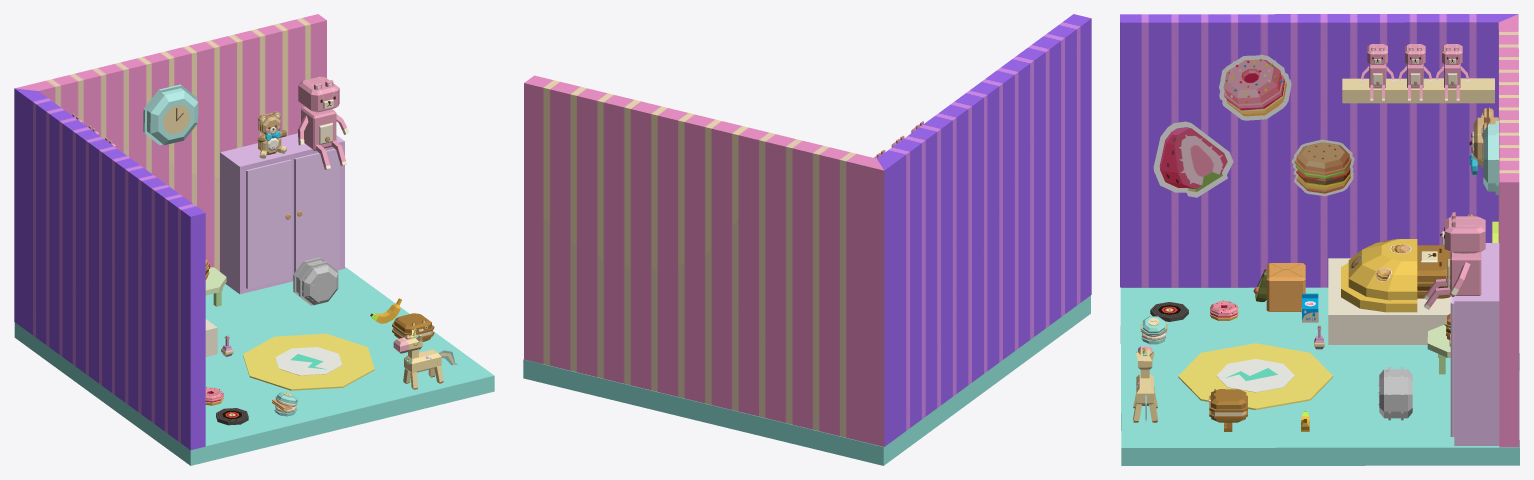
The model's file is plating.fbx.
3 views of the same model, side by side, from view 1: azimuth 30°, elevation 25°; view 2: azimuth 150°, elevation 25°; view 3: azimuth 270°, elevation 25° (orthographic). The views are drawn at different scales.
Visible parts, largest first — view 1: pla1_L_wall, pla1_floor, pla1_R_wall, wardrobe1, carpet1_ad3, pink_panda1, clock1, cookie1, carpet1_ad2, bear1, kuma_head, Unicorn1_body (+2 smaller); view 2: pla1_R_wall, pla1_L_wall, pla1_floor; view 3: pla1_L_wall, pla1_floor, pla1_R_wall, wardrobe1, carpet1_ad3, bed1_ad2, bed_bear_ad1, Icing_Strawberry, Icing_donut, pink_panda1, shelf1, Icing_hamburger (+17 smaller).
Boxes of the visible parts, x1,y1,x2,y2 form: pla1_L_wall: (14,88,205,450); pla1_floor: (14,267,494,465); pla1_R_wall: (15,14,326,271); wardrobe1: (220,133,344,294); carpet1_ad3: (243,333,374,390); pink_panda1: (298,76,349,169); clock1: (143,84,198,145); cookie1: (293,257,338,305); carpet1_ad2: (275,347,341,375); bear1: (257,111,287,158); kuma_head: (392,313,434,335); Unicorn1_body: (404,349,441,372); pla1_R_wall: (524,75,884,446); pla1_L_wall: (877,14,1091,446); pla1_floor: (523,295,1090,465); pla1_L_wall: (1120,14,1517,287); pla1_floor: (1120,287,1519,465); pla1_R_wall: (1498,14,1519,447); wardrobe1: (1449,243,1499,445); carpet1_ad3: (1178,343,1332,409); bed1_ad2: (1328,258,1450,344); bed_bear_ad1: (1341,239,1417,312); Icing_Strawberry: (1153,121,1233,197); Icing_donut: (1219,54,1291,120); pink_panda1: (1424,212,1485,309); shelf1: (1342,78,1494,103); Icing_hamburger: (1291,139,1354,196).
Bounding box in the file's own units: 2041 × 1594 × 2040.
